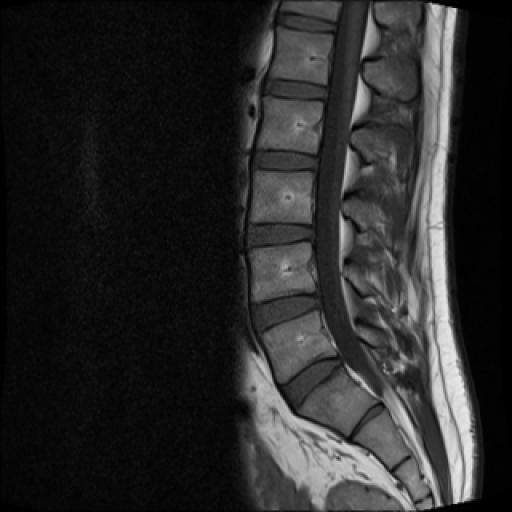L1: (269, 26, 333, 86)
L2: (257, 97, 324, 154)
L3: (250, 171, 312, 223)
L4: (249, 242, 316, 302)
L5: (261, 310, 337, 382)
S1: (297, 368, 377, 436)
